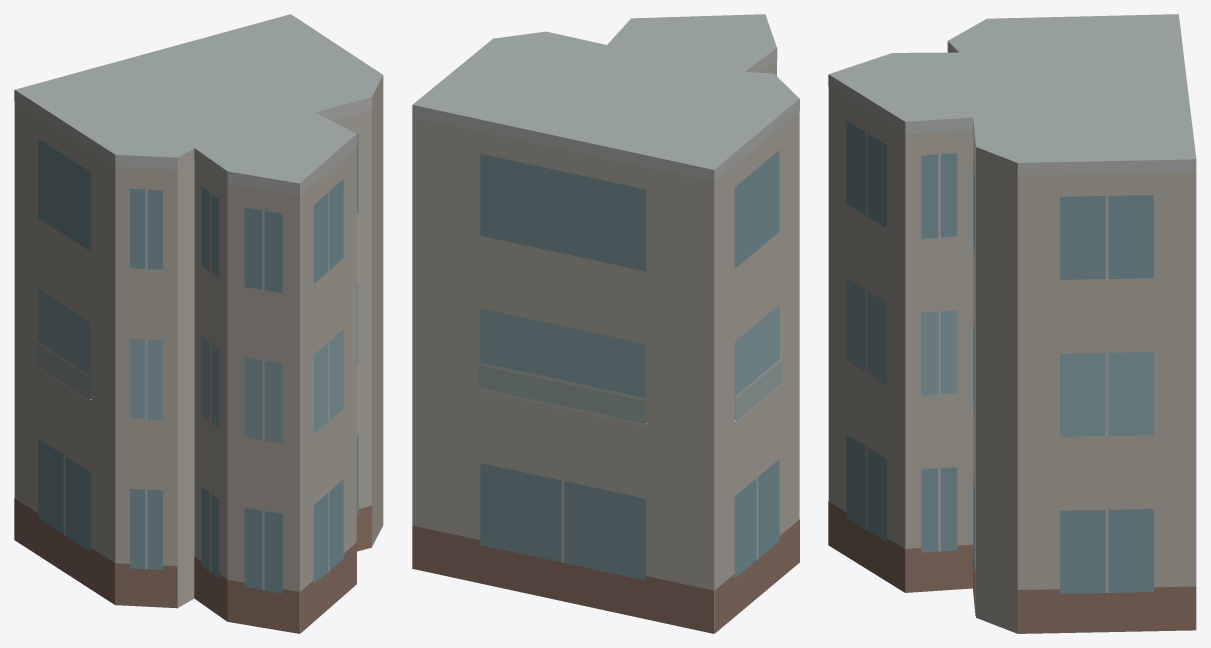
The model's file is survey-upis-32632698.glb.
3 renders of one model, left to right at view 1: azimuth 30°, elevation 25°; view 2: azimuth 150°, elevation 25°; view 3: azimuth 270°, elevation 25°, orthographic. The views are drawn at different scales.
Visible parts, largest first — view 1: survey-upis-32632698.tmp; view 2: survey-upis-32632698.tmp; view 3: survey-upis-32632698.tmp.
Boxes of the visible parts, <box> form: survey-upis-32632698.tmp: <box>14,14,383,633</box>; survey-upis-32632698.tmp: <box>412,14,799,633</box>; survey-upis-32632698.tmp: <box>828,14,1196,633</box>.
Bounding box in the file's own units: 6.21 × 9.15 × 6.49.
